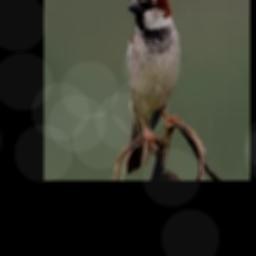Sparrow: (126, 0, 182, 173)
